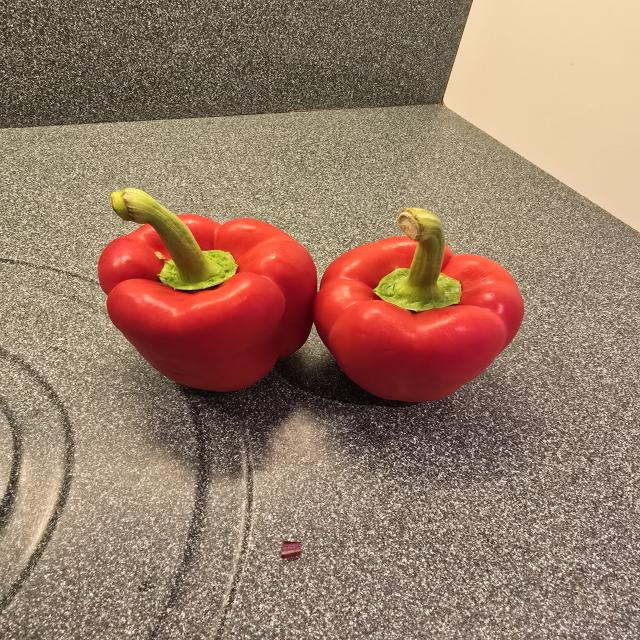Bell Pepper: (84, 180, 320, 399), (312, 203, 532, 406)
